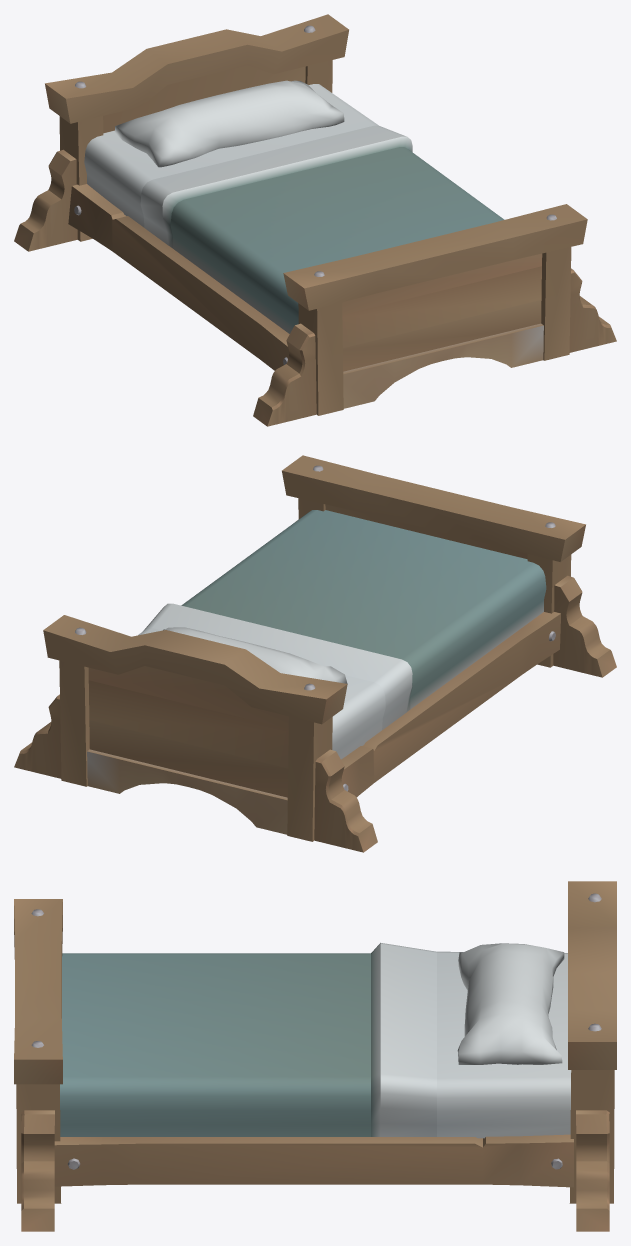
File: Bed_Twin1.glb
The picture shows the model from 3 angles, top to bottom: view 1: azimuth 30°, elevation 25°; view 2: azimuth 150°, elevation 25°; view 3: azimuth 270°, elevation 25°; orthographic projection. The views are drawn at different scales.
Visible parts, largest first — view 1: Bed_Twin1_1292ff, Bed_Twin1_8312fb; view 2: Bed_Twin1_1292ff, Bed_Twin1_8312fb; view 3: Bed_Twin1_8312fb, Bed_Twin1_1292ff, Bed_Twin1_d0c8e4.
Boxes of the visible parts, left/top/right/bottom form: Bed_Twin1_1292ff: left=14, top=14, right=616, bottom=426; Bed_Twin1_8312fb: left=84, top=80, right=504, bottom=333; Bed_Twin1_1292ff: left=14, top=455, right=616, bottom=852; Bed_Twin1_8312fb: left=138, top=510, right=546, bottom=759; Bed_Twin1_8312fb: left=60, top=942, right=571, bottom=1138; Bed_Twin1_1292ff: left=14, top=881, right=616, bottom=1231; Bed_Twin1_d0c8e4: left=31, top=893, right=601, bottom=1169.
Size of the model in its own units: 1.88 by 0.8051 by 2.41.
